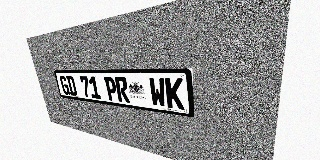1: (87, 76, 101, 99)
7: (79, 76, 92, 98)
D: (66, 76, 78, 96)
G: (59, 76, 70, 95)
K: (165, 78, 184, 110)
P: (104, 77, 118, 101)
R: (114, 77, 130, 103)
W: (148, 77, 167, 108)
